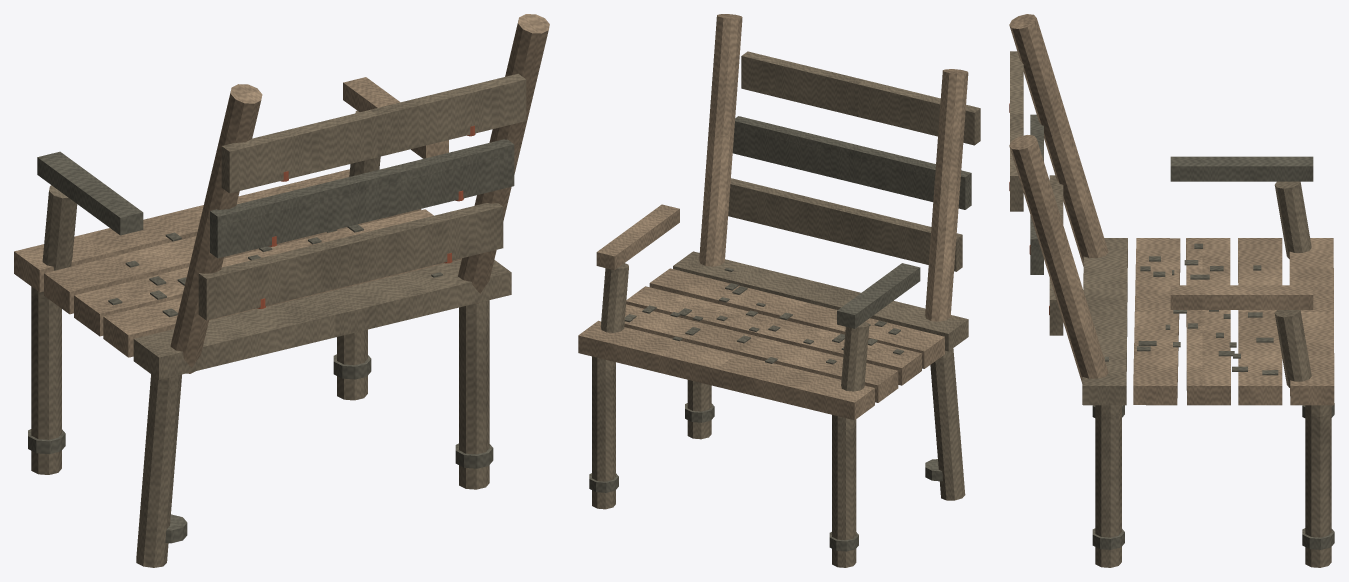
File: sagging_porch_chair.glb
3 renders of one model, left to right at view 1: azimuth 30°, elevation 25°; view 2: azimuth 150°, elevation 25°; view 3: azimuth 270°, elevation 25°, orthographic. The views are drawn at different scales.
Parts seen in each view (by area): view 1: AshfallDecorativeProp; view 2: AshfallDecorativeProp; view 3: AshfallDecorativeProp.
Boxes of the visible parts, x1=… form: AshfallDecorativeProp: x1=14, y1=14, x2=549, y2=567; AshfallDecorativeProp: x1=578, y1=14, x2=980, y2=567; AshfallDecorativeProp: x1=1009, y1=14, x2=1334, y2=567.
Bounding box in the file's own units: 1.18 × 1.56 × 1.07.
Materials: 4 (4 with a texture image).
